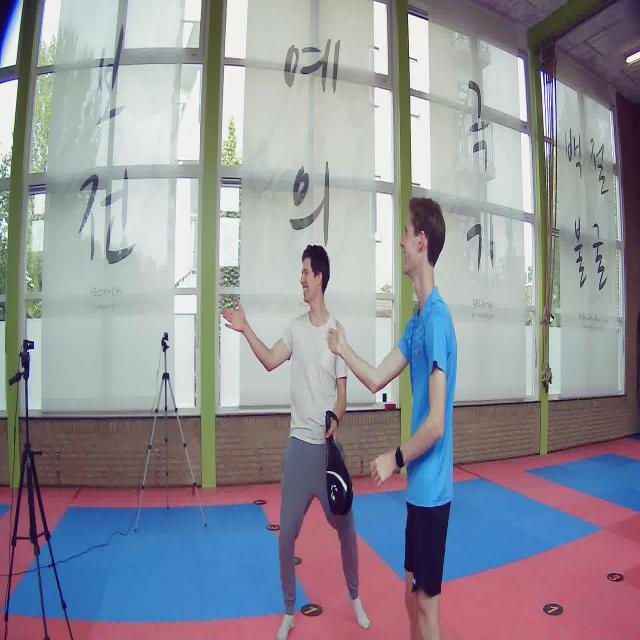paddle: (326, 410, 354, 518)
